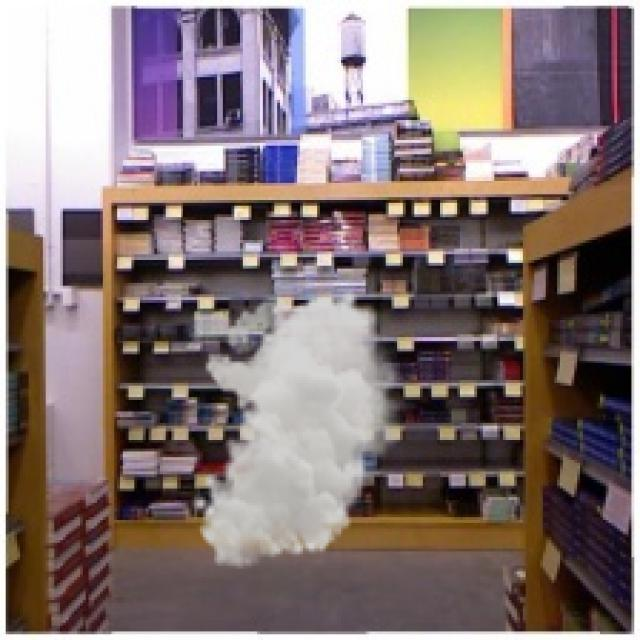smoke: (192, 288, 408, 568)
